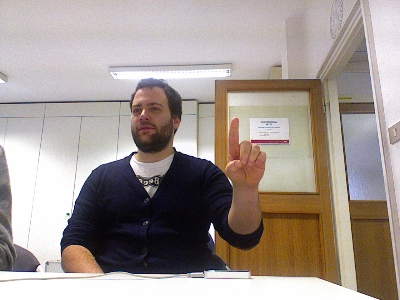食指: (223, 116, 266, 188)
